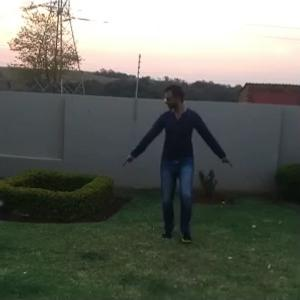land: (122, 84, 241, 252)
